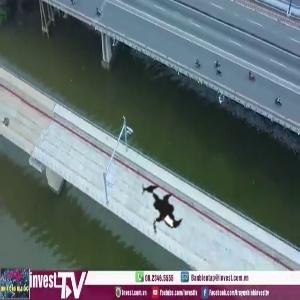drone: (117, 168, 201, 252)
